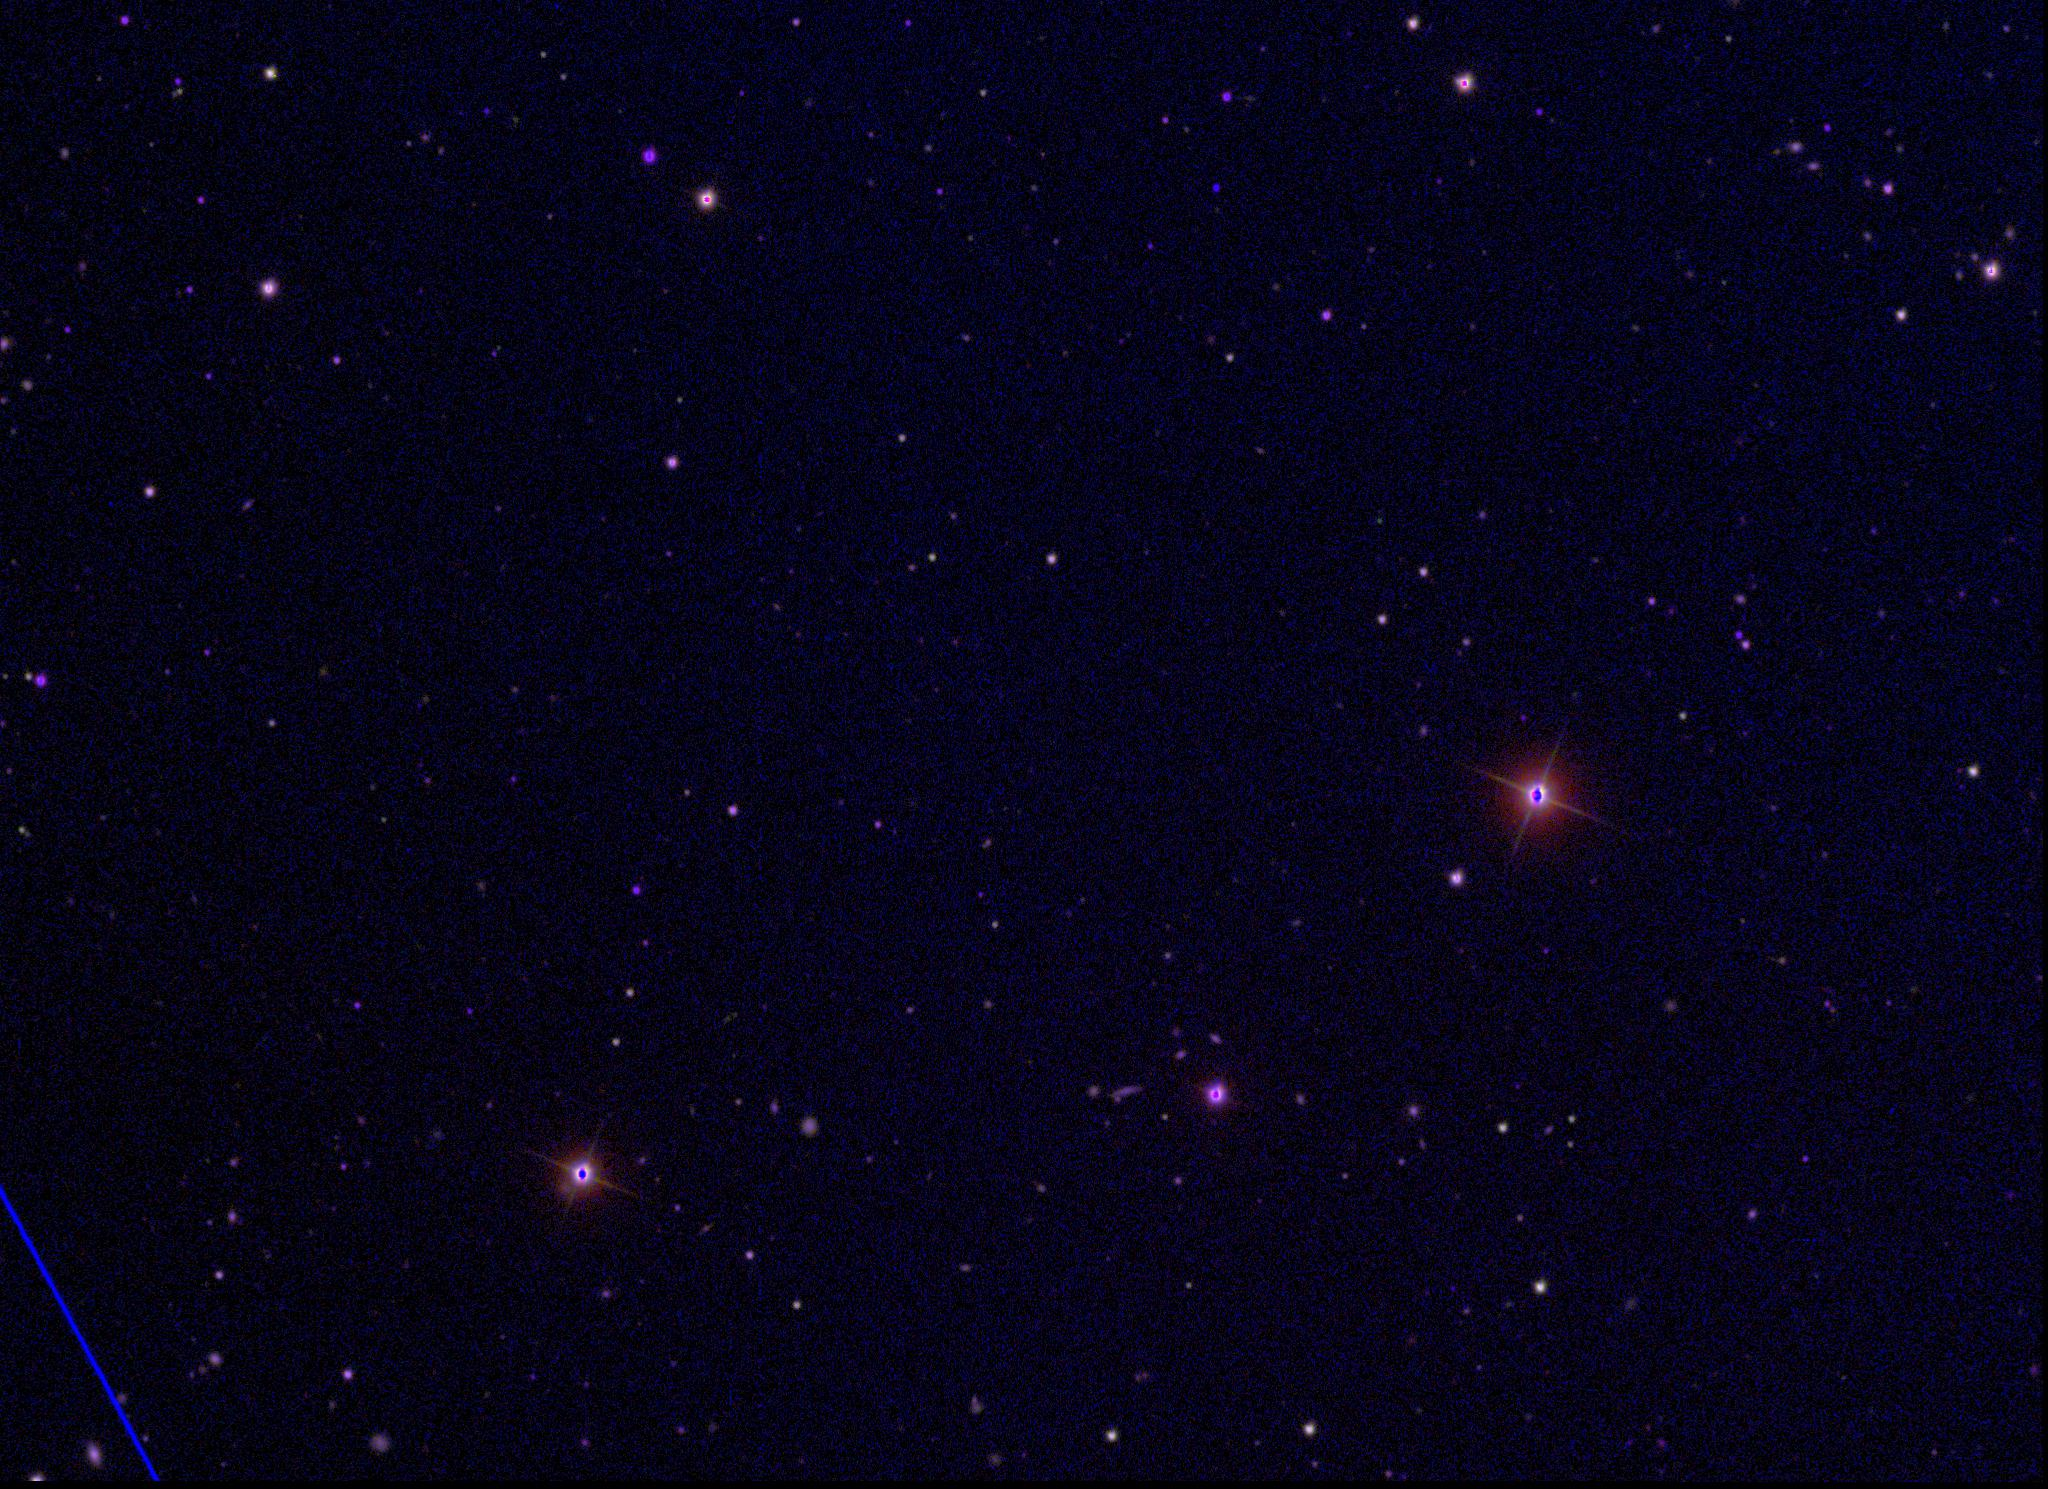L: (1208, 181, 1223, 196)
